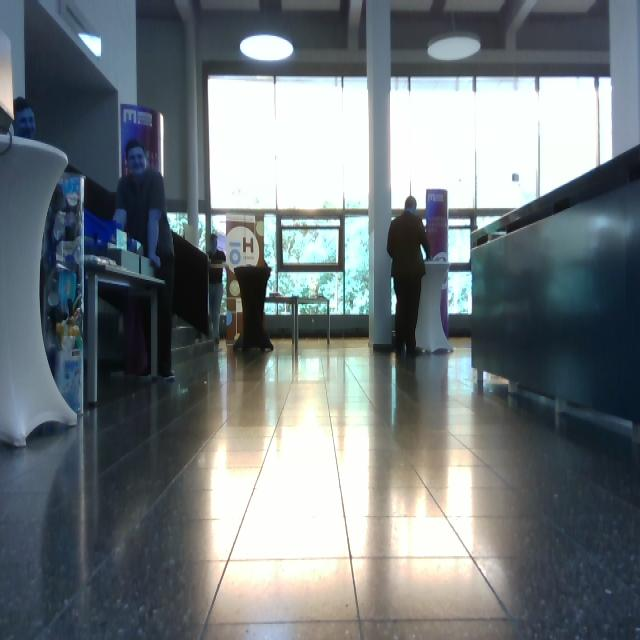door: (278, 213, 344, 317)
light bulb: (239, 1, 295, 62), (427, 32, 481, 62), (239, 33, 294, 62), (78, 32, 102, 58)
person: (113, 138, 176, 381), (387, 196, 432, 357), (207, 235, 227, 351)
pillar: (1, 133, 79, 448), (366, 1, 393, 349)
staircase: (469, 144, 640, 446)
table: (83, 250, 169, 408), (262, 292, 334, 361)
tiled floor: (1, 333, 639, 638)
window: (207, 72, 370, 320)
